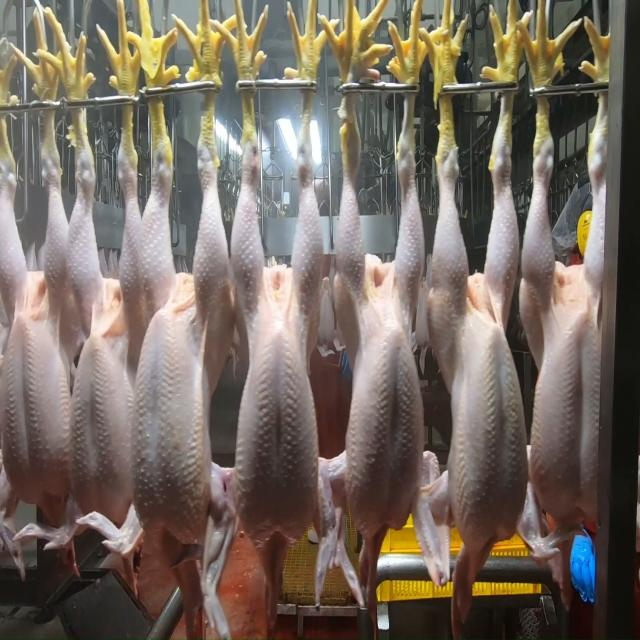chicken: (429, 110, 535, 551), (232, 88, 328, 553), (142, 88, 227, 550), (524, 95, 614, 528), (335, 122, 427, 544), (62, 110, 147, 526), (0, 116, 75, 507)
